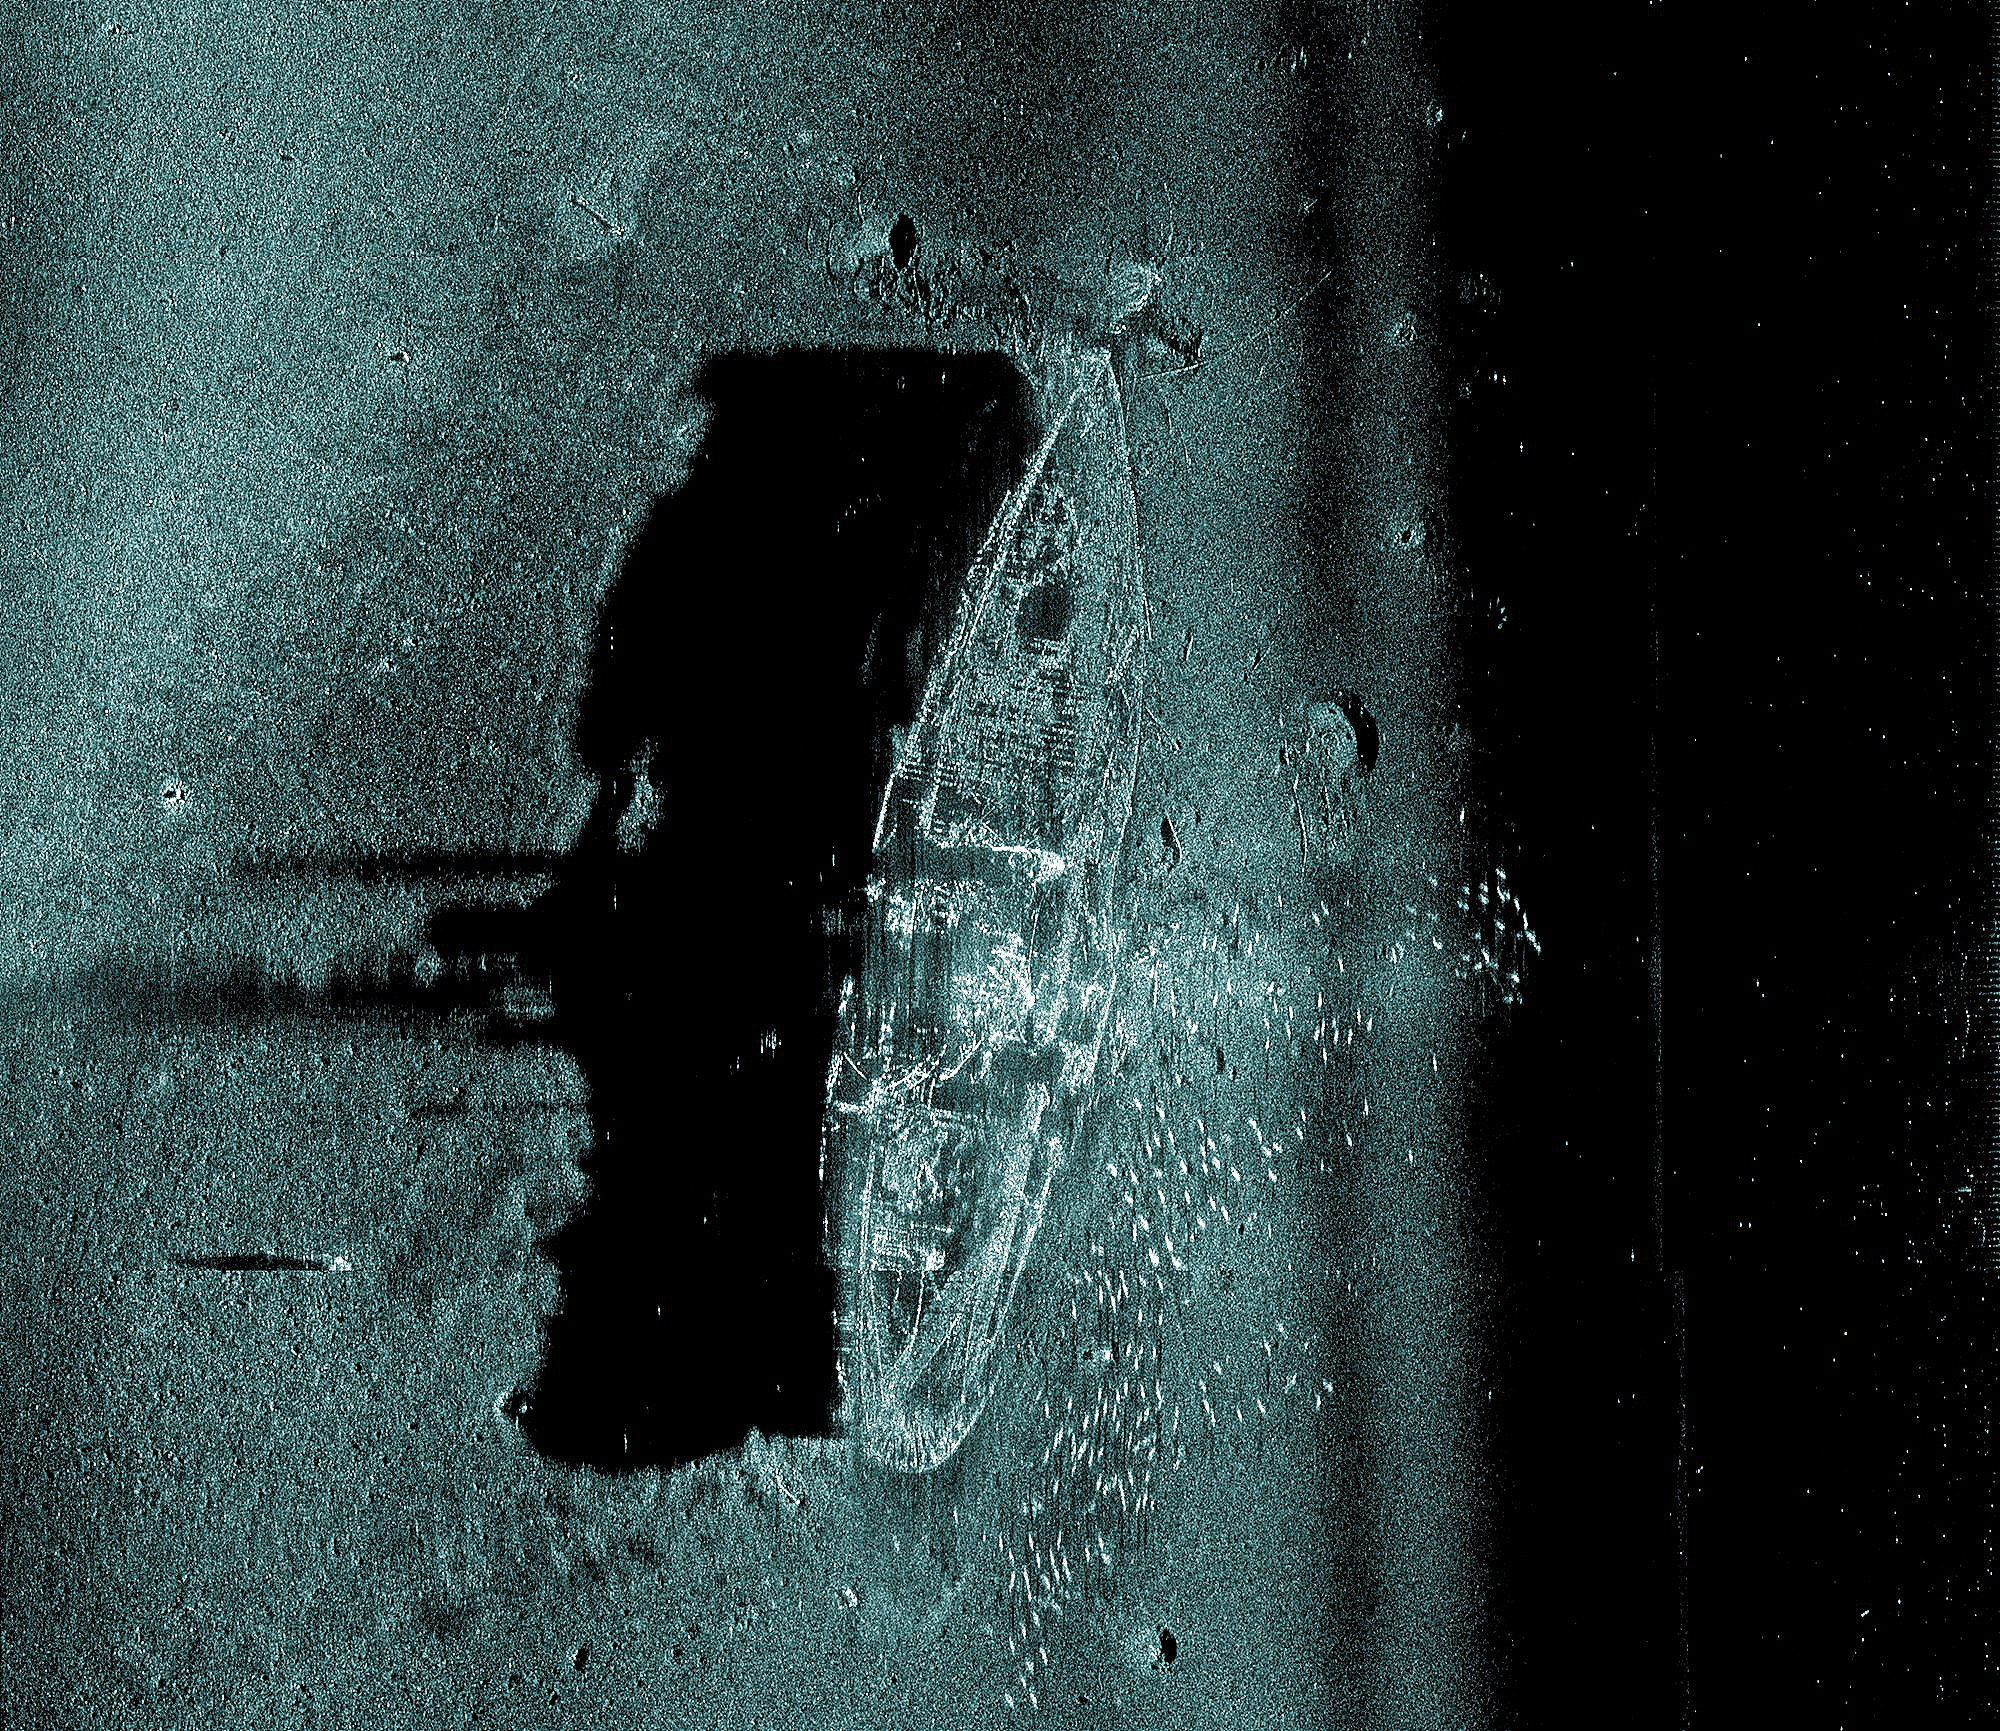ship: (810, 344, 1156, 1483)
